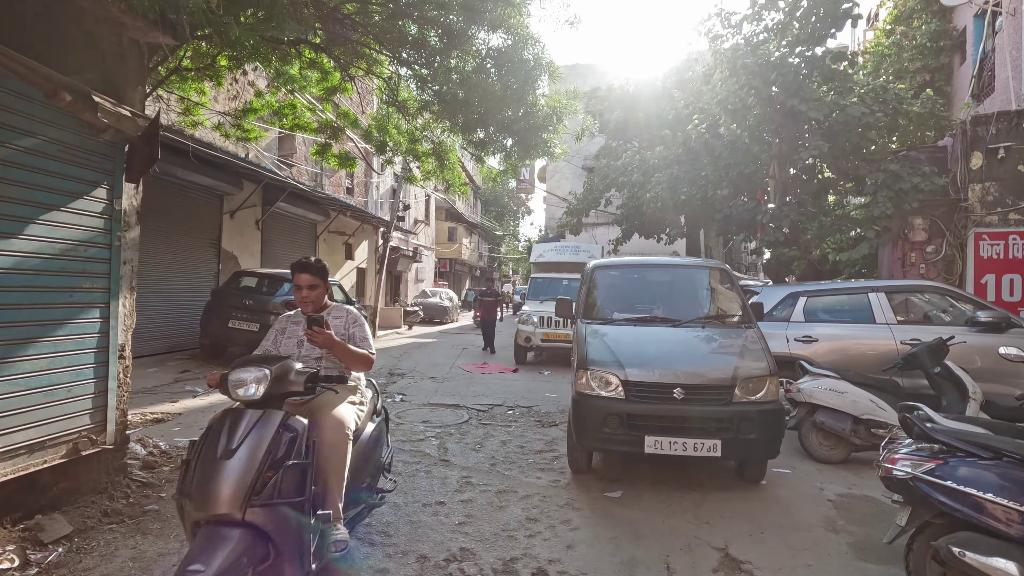garbage: (464, 357, 520, 381)
